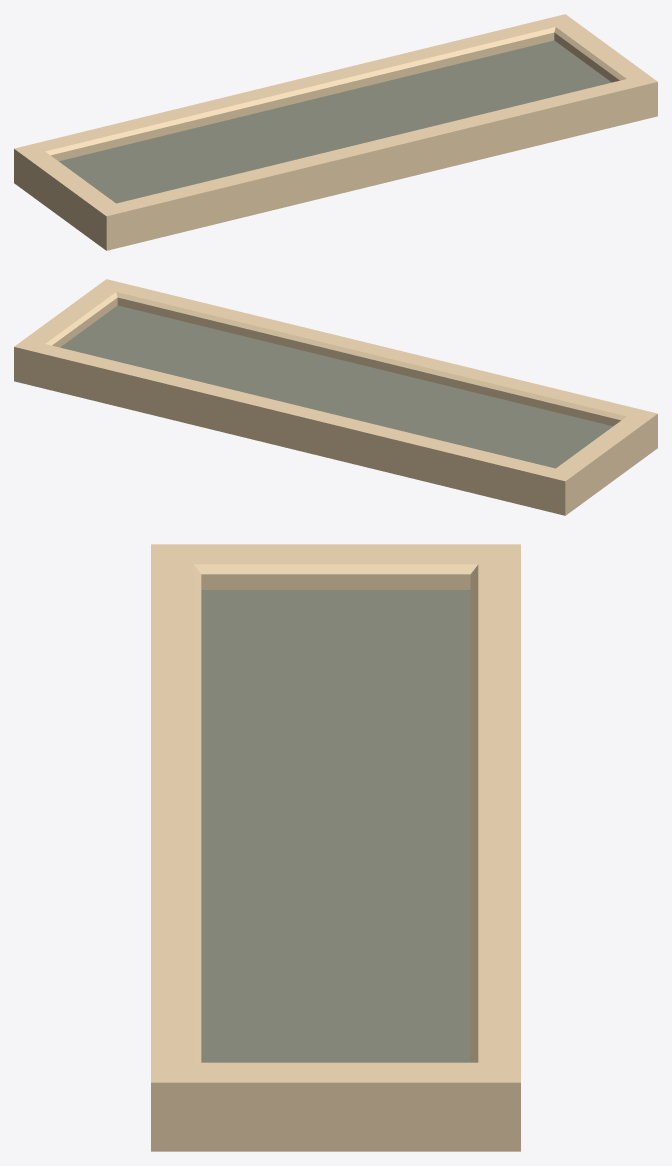
File: fbx_building_3_floor3.fbx
3 views of the same model, one above another, from view 1: azimuth 30°, elevation 25°; view 2: azimuth 150°, elevation 25°; view 3: azimuth 270°, elevation 25° (orthographic). The views are drawn at different scales.
Parts seen in each view (by area): view 1: fbx_building_3_floor3; view 2: fbx_building_3_floor3; view 3: fbx_building_3_floor3.
Boxes of the visible parts, left/top/right/bottom form: fbx_building_3_floor3: left=14, top=14, right=657, bottom=250; fbx_building_3_floor3: left=14, top=279, right=657, bottom=515; fbx_building_3_floor3: left=151, top=544, right=520, bottom=1151.
Size of the model in its own units: 16.72 by 1 by 4.86.
Materials: 1 (1 with a texture image).
